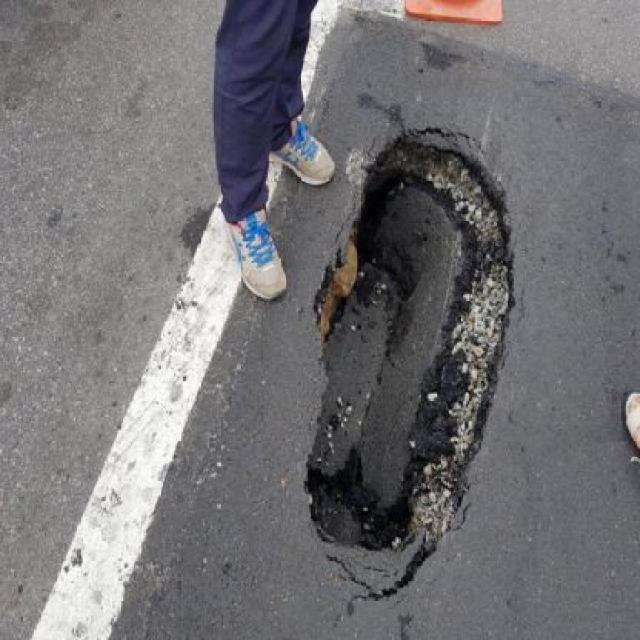Pothole: (306, 126, 520, 569)
